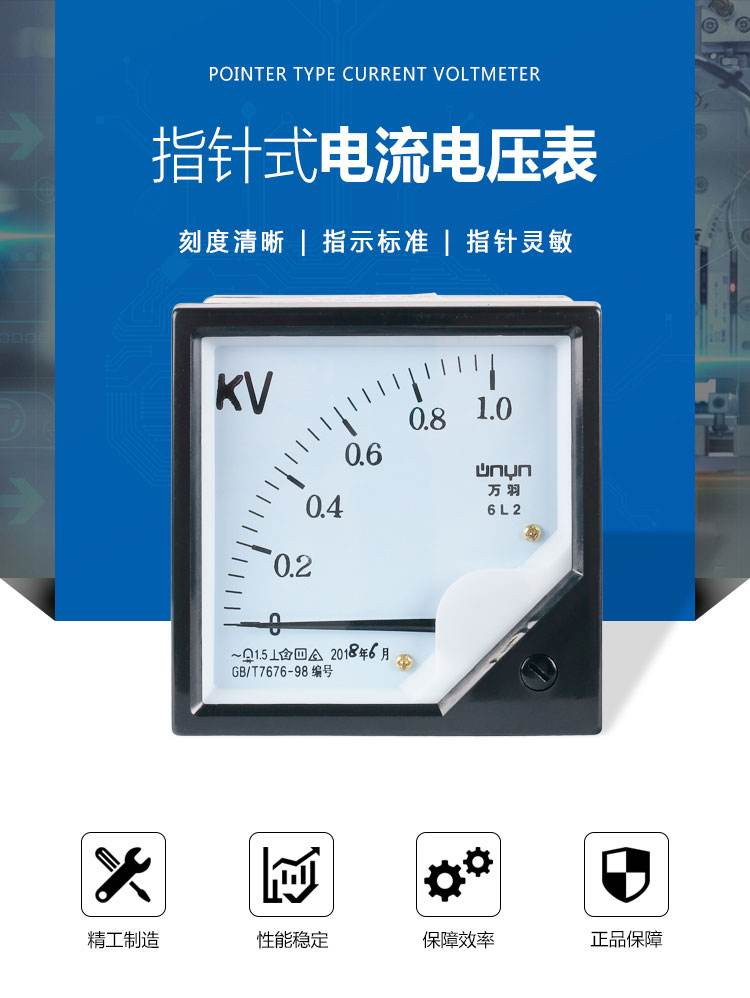pointer: (190, 330, 584, 709)
